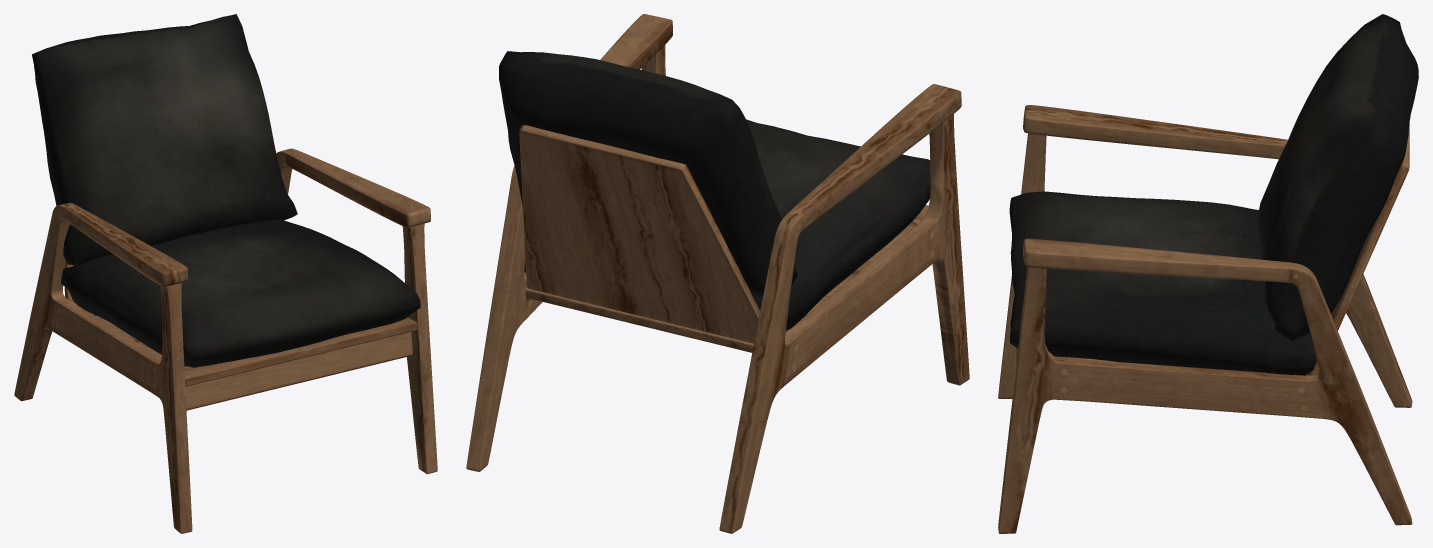
Rendered from modern_arm_chair_01.glb.
3 views of the same model, side by side, from view 1: azimuth 30°, elevation 25°; view 2: azimuth 150°, elevation 25°; view 3: azimuth 270°, elevation 25° (orthographic). The views are drawn at different scales.
Visible parts, largest first — view 1: modern_arm_chair_01; view 2: modern_arm_chair_01; view 3: modern_arm_chair_01.
Part boxes in pixels (x1=…): modern_arm_chair_01: x1=14, y1=14, x2=437, y2=533; modern_arm_chair_01: x1=466, y1=14, x2=969, y2=533; modern_arm_chair_01: x1=998, y1=14, x2=1418, y2=533.
Size of the model in its own units: 0.8203 by 1.02 by 0.9866.
Materials: 2 (2 with a texture image).
